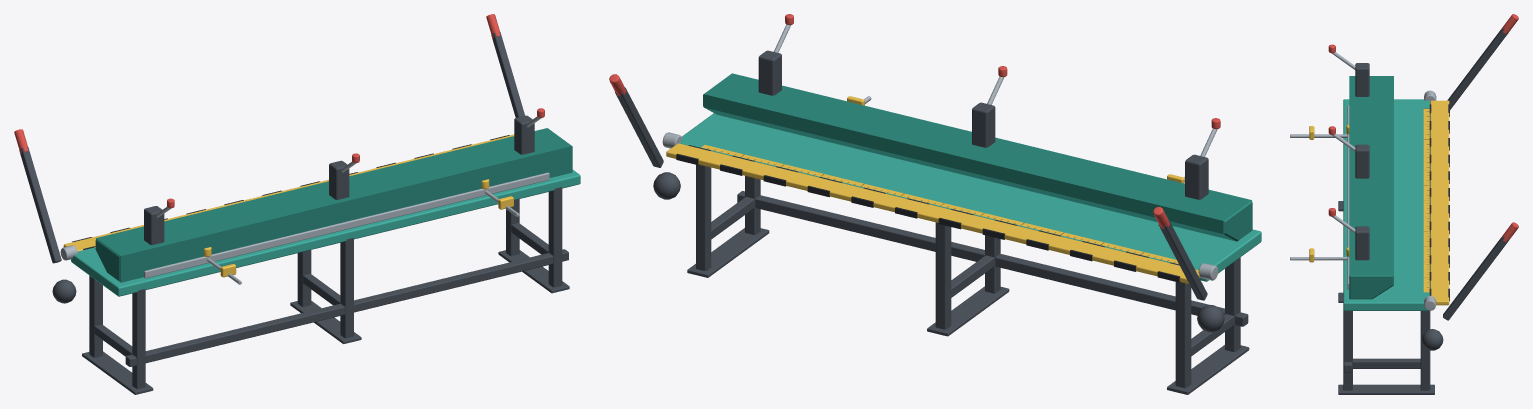
Rendered from dobradeira.glb.
The picture shows the model from 3 angles, left to right: view 1: azimuth 30°, elevation 25°; view 2: azimuth 150°, elevation 25°; view 3: azimuth 270°, elevation 25°; orthographic projection. The views are drawn at different scales.
Visible parts, largest first — view 1: perfil_viga, bancada, perna (×6), longarina, batente_traseiro, sapata (×3), braco (×3), braco_alavanca (×2), travessa (×3), chapa_avental; view 2: perfil_viga, bancada, perna (×6), chapa_avental, longarina, sapata (×3), braco (×3), travessa (×3), regua, braco_alavanca (×2), contrapeso (×2); view 3: perfil_viga, bancada, chapa_avental, braco_alavanca (×2), braco (×3), perna (×2), regua, sapata, travessa, batente_traseiro, contrapeso, guia_batente.
Boxes of the visible parts, x1=… form: perfil_viga: x1=95, y1=128, x2=572, y2=282; bancada: x1=71, y1=170, x2=580, y2=296; perna (×6): x1=89, y1=187, x2=562, y2=388; longarina: x1=125, y1=249, x2=568, y2=366; batente_traseiro: x1=144, y1=172, x2=549, y2=278; sapata (×3): x1=82, y1=250, x2=569, y2=394; braco (×3): x1=144, y1=115, x2=534, y2=244; braco_alavanca (×2): x1=19, y1=31, x2=524, y2=263; travessa (×3): x1=94, y1=223, x2=548, y2=356; chapa_avental: x1=63, y1=134, x2=514, y2=251; perfil_viga: x1=703, y1=73, x2=1252, y2=241; bancada: x1=679, y1=113, x2=1261, y2=281; perna (×6): x1=696, y1=164, x2=1240, y2=388; chapa_avental: x1=666, y1=143, x2=1200, y2=283; longarina: x1=737, y1=191, x2=1248, y2=326; sapata (×3): x1=687, y1=228, x2=1249, y2=394; braco (×3): x1=758, y1=50, x2=1208, y2=199; travessa (×3): x1=711, y1=197, x2=1234, y2=356; regua: x1=701, y1=145, x2=1178, y2=263; braco_alavanca (×2): x1=615, y1=87, x2=1207, y2=300; contrapeso (×2): x1=653, y1=172, x2=1224, y2=332; perfil_viga: x1=1349, y1=76, x2=1393, y2=299; bancada: x1=1343, y1=99, x2=1430, y2=310; chapa_avental: x1=1430, y1=100, x2=1449, y2=305; braco_alavanca (×2): x1=1443, y1=28, x2=1508, y2=320; braco (×3): x1=1355, y1=63, x2=1369, y2=260; perna (×2): x1=1343, y1=310, x2=1430, y2=390; regua: x1=1423, y1=108, x2=1429, y2=292; sapata: x1=1338, y1=384, x2=1434, y2=394; travessa: x1=1352, y1=358, x2=1420, y2=368; batente_traseiro: x1=1347, y1=105, x2=1349, y2=289; contrapeso: x1=1421, y1=329, x2=1443, y2=350; guia_batente: x1=1290, y1=257, x2=1347, y2=260.
Bounding box in the file's own units: 4.26 × 1.65 × 1.89.
8 materials, 1 textured.
